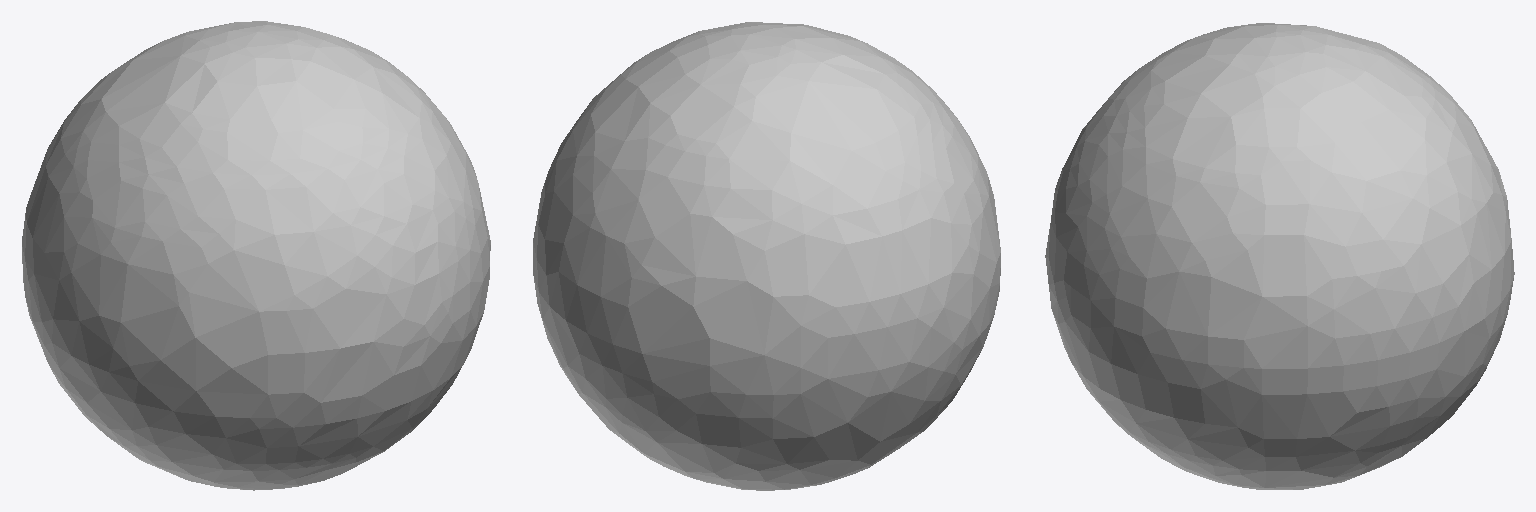
Rendered from esfera.obj.
3 views of the same model, side by side, from view 1: azimuth 30°, elevation 25°; view 2: azimuth 150°, elevation 25°; view 3: azimuth 270°, elevation 25° (orthographic).
Size of the model in its own units: 9.96 by 9.98 by 9.99.